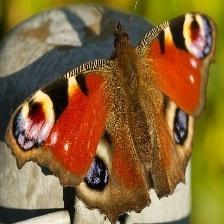butterfly: (5, 13, 216, 224)
